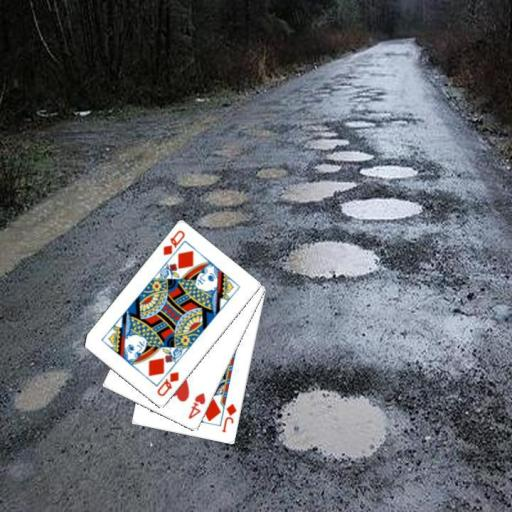4H: (185, 390, 207, 421)
JD: (219, 400, 238, 434)
QD: (154, 369, 181, 398), (160, 227, 186, 257)
